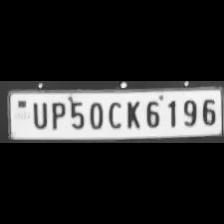0: (86, 98, 104, 130)
1: (163, 97, 179, 128)
5: (66, 98, 86, 130)
6: (141, 98, 161, 128), (198, 96, 218, 126)
9: (180, 96, 198, 128)
C: (104, 98, 122, 130)
K: (122, 98, 140, 130)
P: (47, 99, 65, 130)
U: (28, 99, 48, 129)
